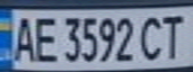2: (115, 14, 139, 63)
3: (57, 12, 81, 63)
5: (78, 12, 100, 63)
9: (97, 14, 118, 63)
A: (9, 12, 39, 63)
C: (136, 11, 169, 62)
E: (30, 12, 60, 63)
T: (157, 10, 190, 61)
